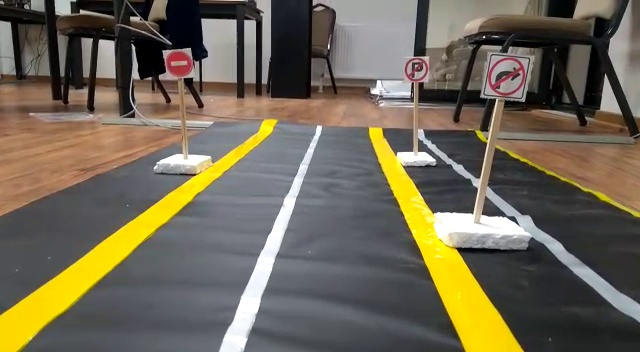girisi_olmayan_yol: (162, 49, 193, 77)
park_yapilmaz: (405, 53, 430, 81)
saga_donulmez: (486, 50, 523, 101)
